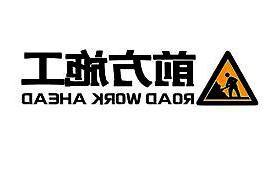sign: (18, 49, 260, 108)
